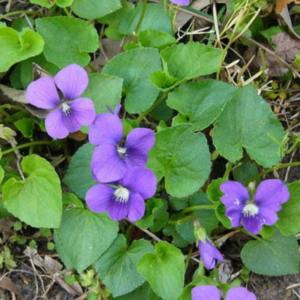violet: (22, 65, 96, 139), (211, 172, 292, 237), (82, 116, 155, 180), (85, 158, 155, 223)
